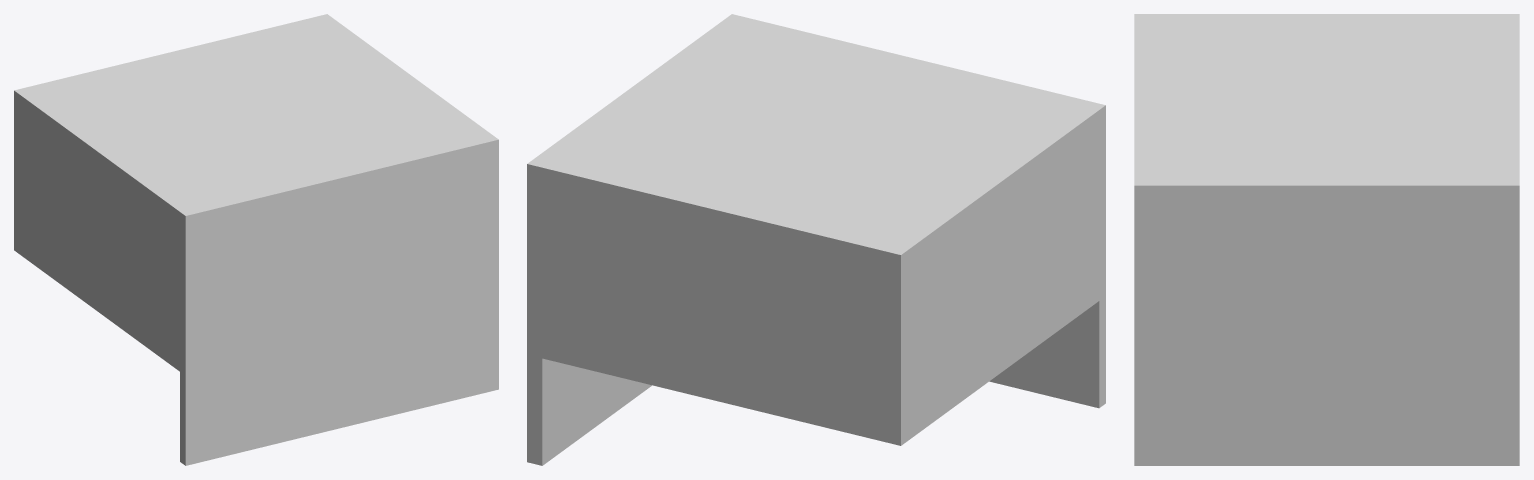
Rendered from Counter_2_C.obj.
3 renders of one model, left to right at view 1: azimuth 30°, elevation 25°; view 2: azimuth 150°, elevation 25°; view 3: azimuth 270°, elevation 25°, orthographic. The views are drawn at different scales.
Parts seen in each view (by area): view 1: Counter_2_C; view 2: Counter_2_C; view 3: Counter_2_C.
Part boxes in pixels (bbox=[...]): Counter_2_C: bbox=[14, 14, 498, 465]; Counter_2_C: bbox=[527, 14, 1105, 465]; Counter_2_C: bbox=[1134, 14, 1519, 465].
Size of the model in its own units: 1 by 0.7623 by 0.949.
